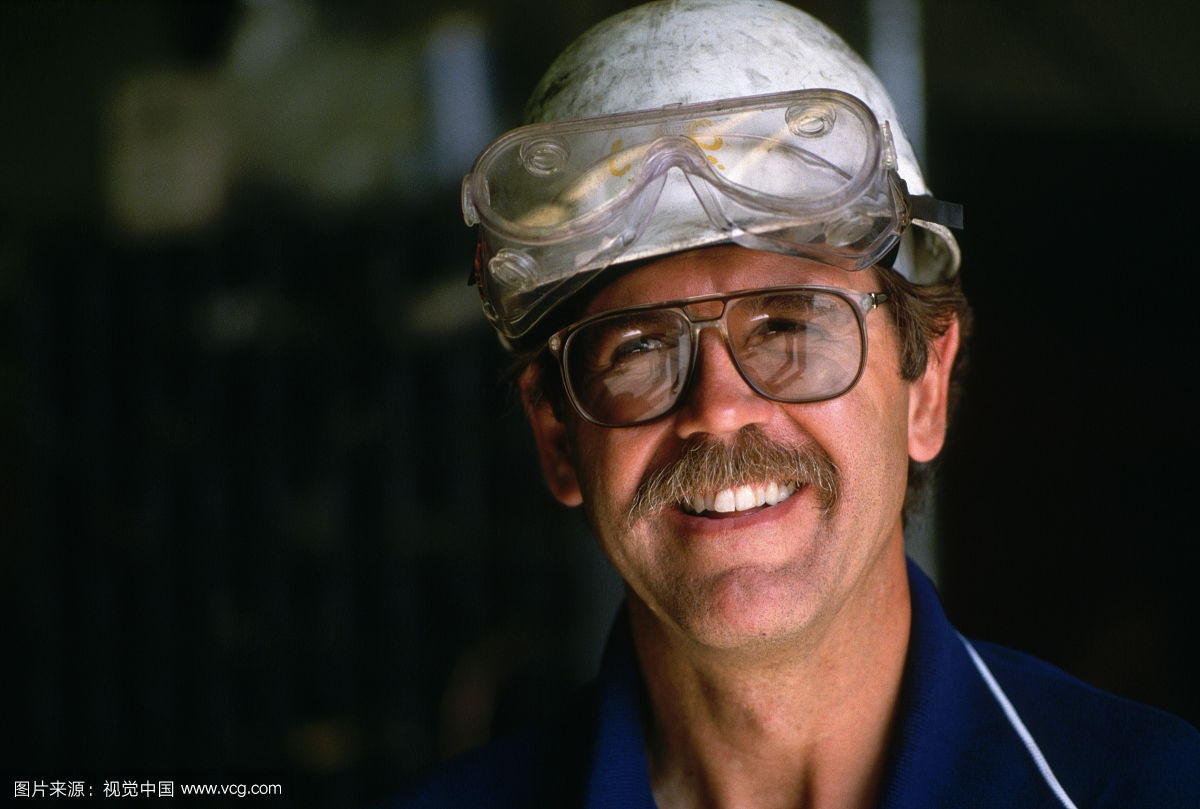white: (476, 5, 965, 653)
